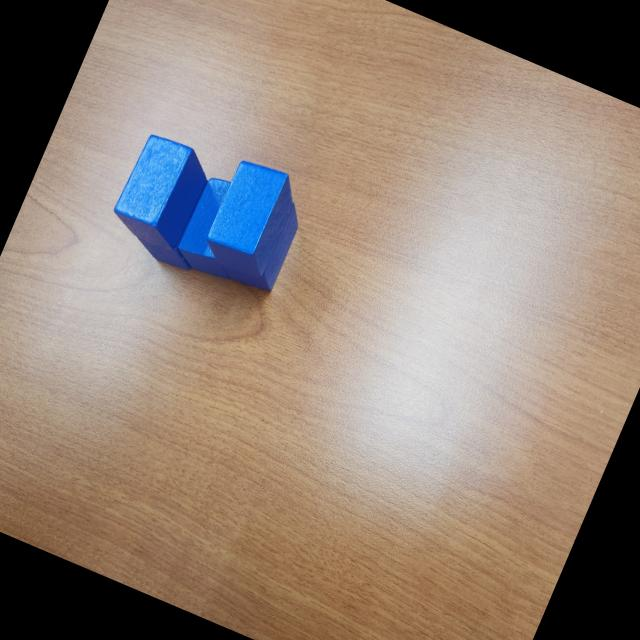blue: (104, 128, 218, 259), (198, 154, 304, 280), (214, 182, 308, 300), (132, 166, 225, 276), (171, 168, 259, 282)
